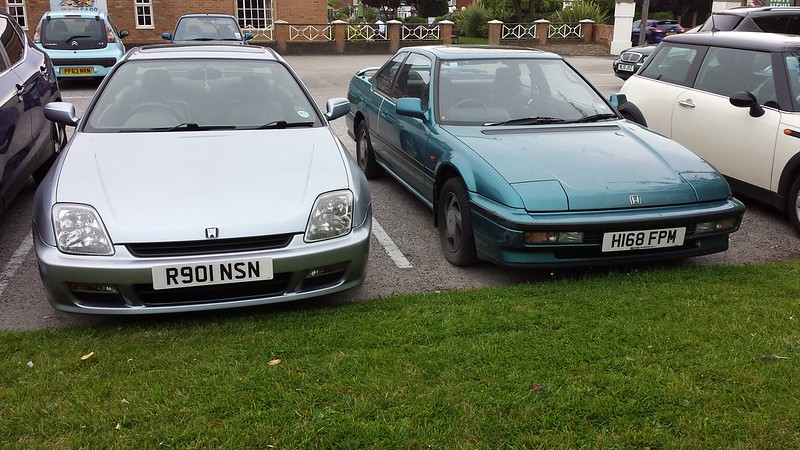number_plate: (145, 261, 292, 291), (594, 226, 697, 254), (55, 58, 99, 81), (615, 58, 638, 73)
